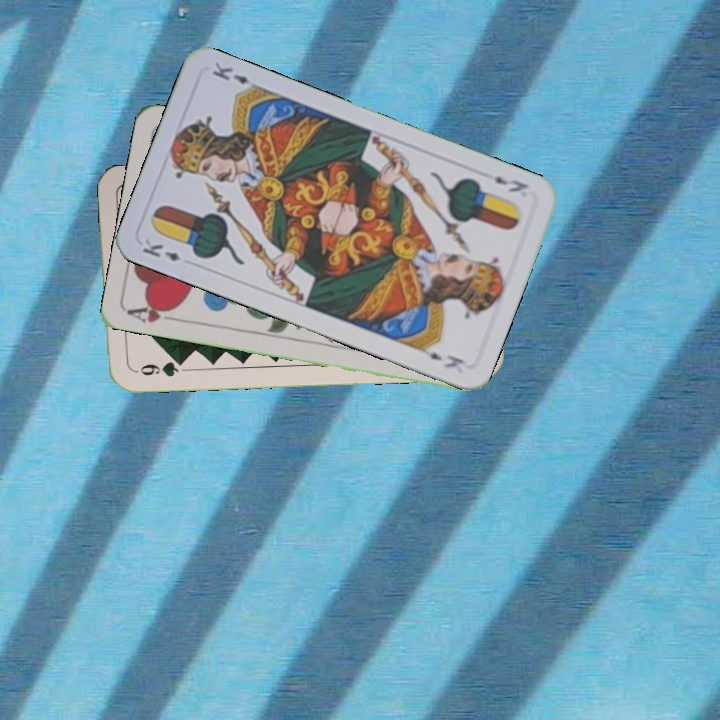EK: (138, 234, 183, 264), (490, 172, 531, 196)
G9: (129, 356, 188, 380)
HA: (125, 299, 184, 326)
